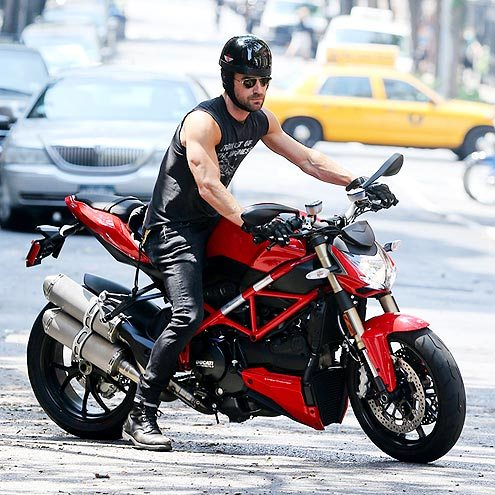helmet: (165, 23, 340, 313)
